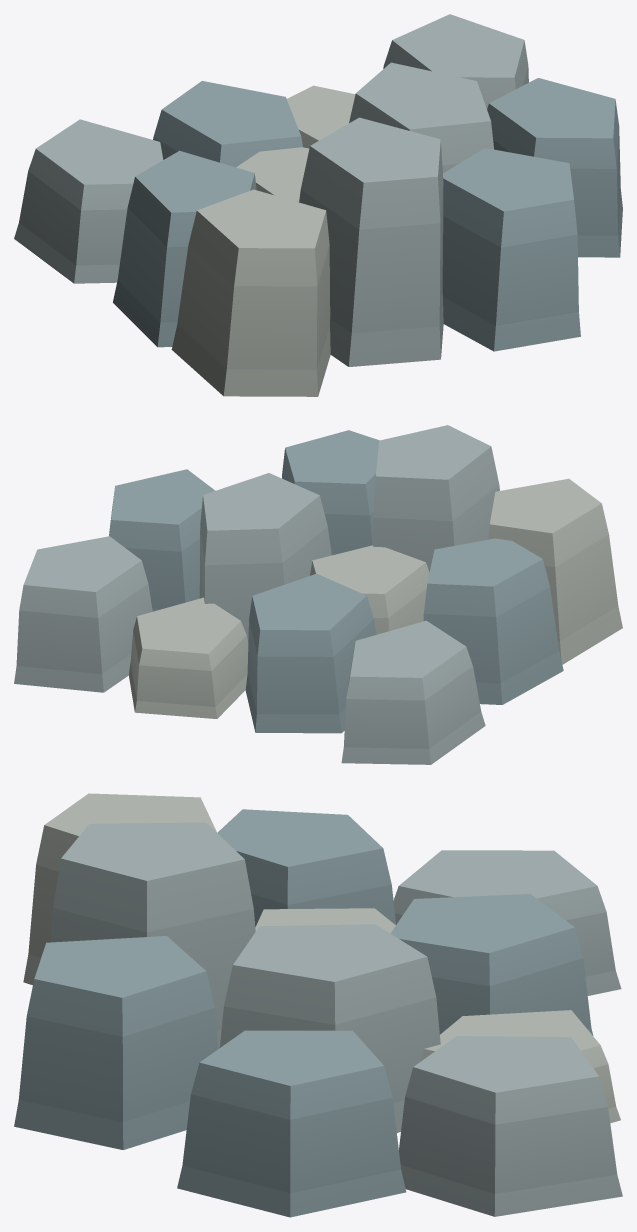
File: glacier.glb
The picture shows the model from 3 angles, top to bottom: view 1: azimuth 30°, elevation 25°; view 2: azimuth 150°, elevation 25°; view 3: azimuth 270°, elevation 25°; orthographic projection. The views are drawn at different scales.
Visible parts, largest first — view 1: Fractured glacier shelf v2; view 2: Fractured glacier shelf v2; view 3: Fractured glacier shelf v2.
Part boxes in pixels (x1=…): Fractured glacier shelf v2: x1=14, y1=14, x2=622, y2=396; Fractured glacier shelf v2: x1=14, y1=425, x2=622, y2=764; Fractured glacier shelf v2: x1=14, y1=793, x2=622, y2=1217.
Bounding box in the file's own units: 3.75 × 1.27 × 3.51.
